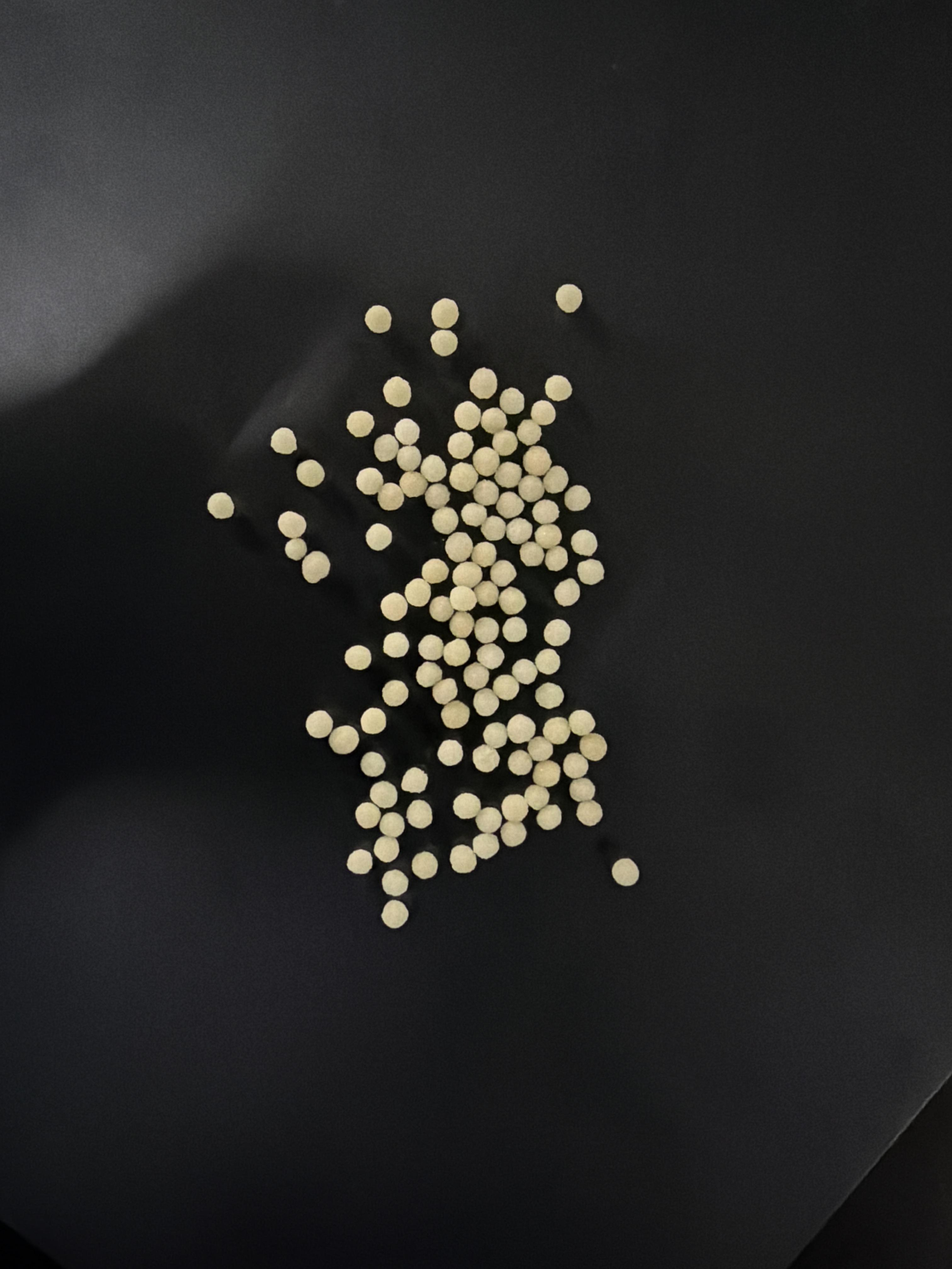pill: (543, 286, 587, 315), (272, 428, 310, 460), (442, 846, 476, 874), (380, 628, 413, 654), (560, 752, 593, 776), (451, 457, 476, 487), (550, 579, 581, 603), (476, 643, 513, 663), (421, 298, 453, 321), (437, 535, 469, 558), (573, 531, 600, 558), (473, 540, 502, 565), (296, 454, 321, 482), (574, 563, 602, 588), (422, 324, 448, 350), (376, 897, 406, 919), (515, 416, 540, 442), (537, 616, 565, 639), (502, 795, 526, 821), (510, 514, 533, 541), (542, 616, 569, 639), (473, 363, 493, 394), (417, 632, 444, 654), (333, 726, 357, 750), (372, 525, 394, 551), (430, 676, 457, 697), (450, 585, 478, 605), (583, 734, 606, 758), (490, 554, 512, 579), (385, 637, 410, 659), (383, 680, 410, 700), (278, 513, 319, 526), (473, 742, 497, 764), (572, 799, 596, 821), (431, 515, 462, 532), (437, 707, 466, 725), (539, 682, 566, 701), (539, 808, 562, 830), (551, 366, 569, 394), (502, 383, 520, 411), (531, 395, 552, 419), (535, 497, 556, 521), (300, 555, 329, 572), (536, 649, 559, 670), (501, 612, 521, 636), (440, 736, 460, 760), (352, 647, 377, 666), (554, 587, 585, 602), (472, 690, 494, 711), (500, 820, 520, 843), (538, 649, 562, 668), (465, 665, 489, 684), (607, 864, 635, 880), (396, 476, 422, 493), (378, 482, 398, 504), (469, 832, 491, 852), (474, 542, 493, 565), (518, 544, 536, 568), (425, 559, 445, 580), (474, 690, 495, 710), (461, 664, 483, 683), (567, 776, 589, 795), (424, 452, 442, 475), (380, 483, 398, 506), (575, 807, 598, 825), (364, 300, 380, 325), (453, 401, 473, 421), (447, 637, 467, 657), (517, 480, 536, 501), (510, 743, 524, 771), (480, 410, 499, 430), (498, 587, 518, 606), (360, 705, 379, 725), (306, 710, 326, 729), (396, 444, 414, 465), (573, 529, 591, 550), (515, 657, 533, 678), (360, 746, 381, 764), (523, 734, 541, 755), (474, 830, 492, 851), (537, 530, 562, 545), (537, 402, 554, 424), (354, 410, 371, 432), (372, 436, 394, 453), (351, 467, 371, 485), (419, 660, 439, 678), (408, 801, 426, 821), (350, 804, 374, 819), (517, 657, 533, 679), (482, 809, 498, 831), (212, 490, 227, 513), (482, 720, 501, 738), (536, 763, 555, 781), (388, 871, 407, 889), (498, 495, 515, 515), (515, 658, 535, 675), (572, 710, 589, 730), (569, 489, 585, 510), (464, 505, 485, 521), (443, 537, 465, 552), (495, 429, 512, 448), (535, 682, 555, 698), (419, 854, 435, 874), (452, 434, 470, 451), (400, 415, 417, 433), (502, 498, 520, 515), (448, 611, 466, 628), (525, 785, 543, 802), (448, 795, 466, 812), (494, 559, 510, 578), (478, 447, 495, 464), (427, 485, 445, 501), (474, 480, 490, 498), (477, 578, 489, 602), (494, 555, 506, 578), (383, 819, 404, 832), (543, 473, 560, 489), (521, 539, 536, 556), (275, 536, 298, 547), (384, 377, 398, 395), (400, 447, 418, 461), (500, 459, 513, 478), (354, 469, 373, 482), (498, 462, 514, 477), (430, 597, 445, 613), (437, 681, 453, 696), (405, 768, 420, 784), (509, 715, 523, 732), (424, 667, 442, 680), (351, 854, 364, 872), (566, 561, 584, 573), (511, 714, 526, 728), (539, 811, 558, 822), (506, 615, 519, 631), (543, 721, 555, 738), (530, 452, 542, 468), (373, 784, 390, 795), (549, 548, 562, 561), (486, 518, 500, 530), (376, 843, 391, 854), (497, 678, 509, 691), (505, 826, 517, 839), (414, 587, 426, 599), (530, 454, 543, 465), (479, 624, 492, 635), (482, 580, 489, 598)
